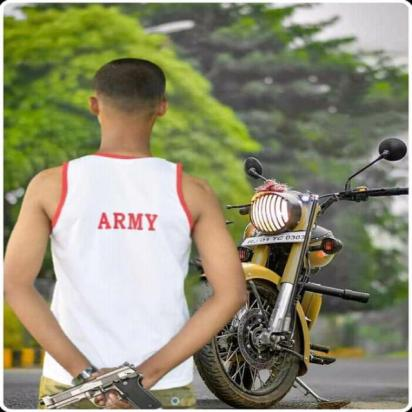Gun: (31, 358, 172, 410)
